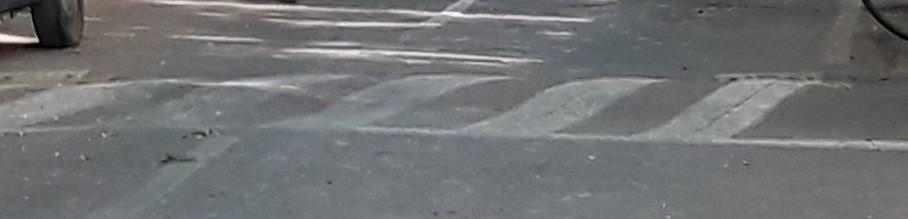speed-bump: (3, 61, 908, 153)
